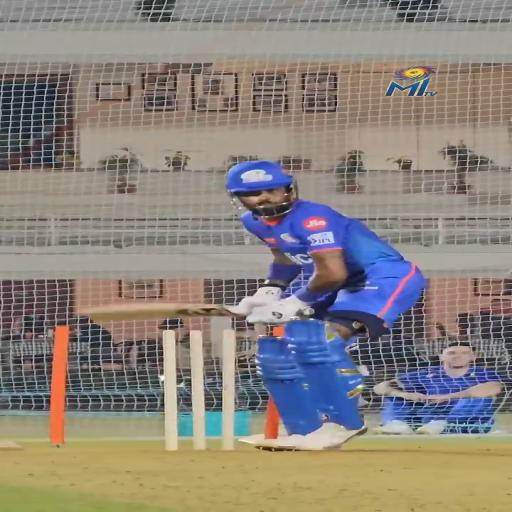Cricket bat: (82, 302, 245, 322)
